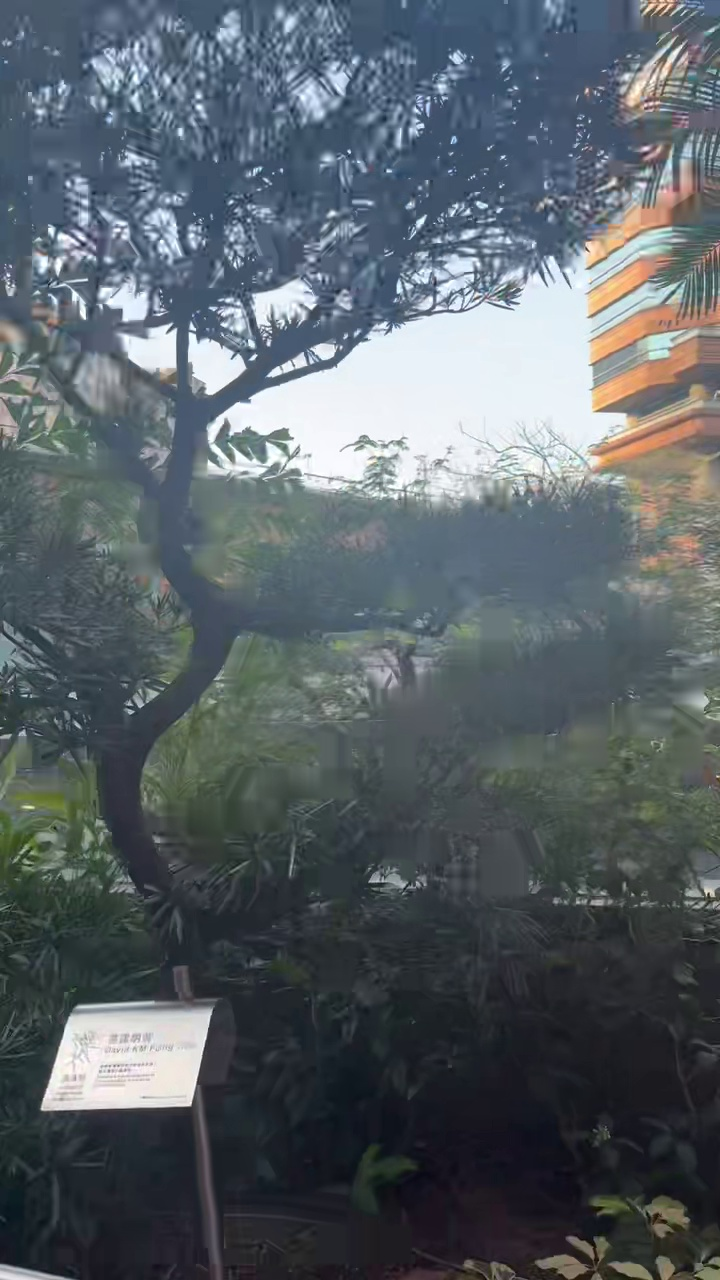Podocarpus macrophyllus: (0, 0, 628, 896)
